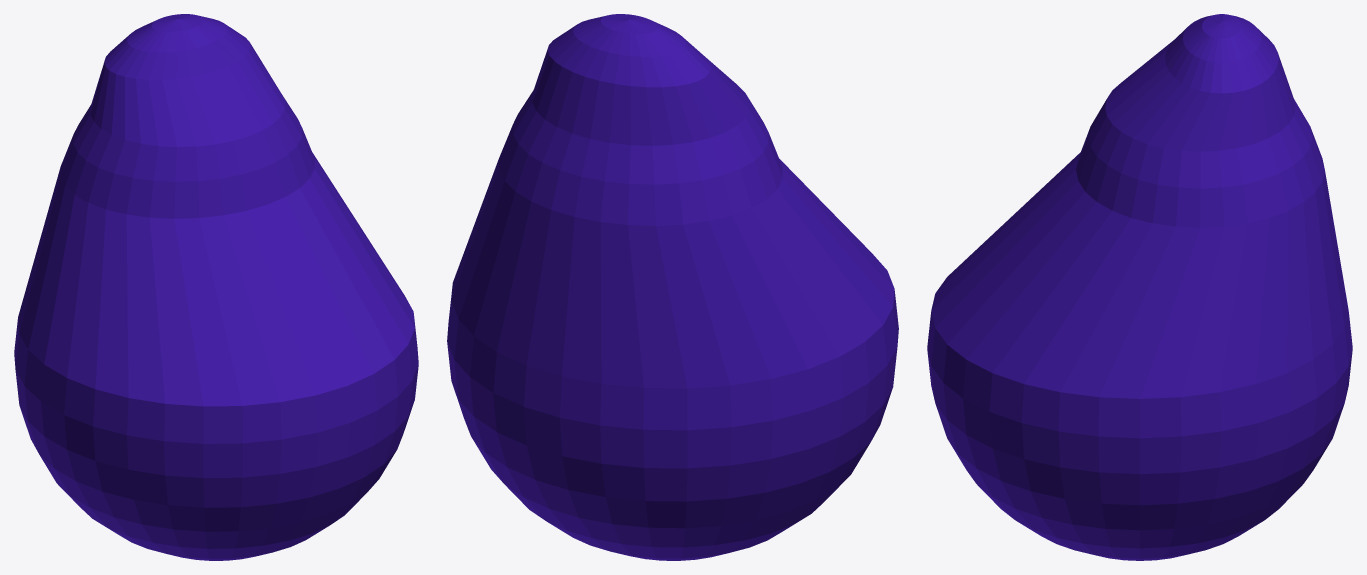
File: seve.glb
The picture shows the model from 3 angles, left to right: view 1: azimuth 30°, elevation 25°; view 2: azimuth 150°, elevation 25°; view 3: azimuth 270°, elevation 25°; orthographic projection. The views are drawn at different scales.
Visible parts, largest first — view 1: Sphère; view 2: Sphère; view 3: Sphère.
Boxes of the visible parts, x1,y1,x2,y2 form: Sphère: (14,14,418,560); Sphère: (447,14,898,560); Sphère: (927,14,1352,560).
Bounding box in the file's own units: 2 × 2.69 × 2.
Materials: 1 (1 with a texture image).
